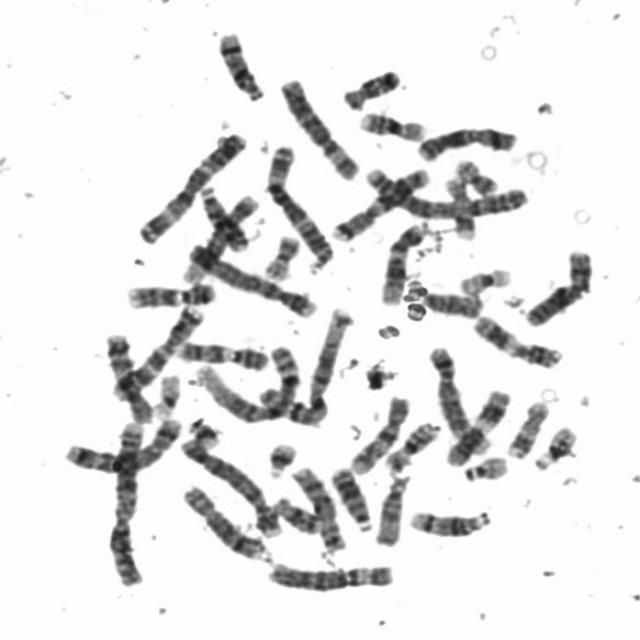A1: (254, 302, 356, 426), (189, 337, 304, 425)
A2: (359, 158, 535, 220), (101, 411, 149, 589)
A3: (130, 123, 250, 246), (258, 134, 337, 271)
B4: (172, 430, 284, 538), (179, 238, 319, 319)
B5: (57, 408, 185, 476), (422, 337, 494, 457)
C10: (342, 388, 413, 475), (96, 324, 154, 425)
C11: (439, 380, 514, 468), (464, 308, 566, 371)
C12: (175, 186, 264, 286), (373, 214, 429, 306)
C6: (272, 70, 362, 181), (259, 554, 399, 594)
C7: (105, 299, 206, 403), (325, 158, 432, 243)
C8: (173, 477, 270, 562), (284, 458, 350, 553)
C9: (169, 333, 272, 372), (118, 274, 220, 310)
D13: (191, 178, 250, 253), (323, 459, 375, 532)
D14: (208, 22, 268, 102), (401, 500, 494, 540)
D15: (368, 467, 413, 547), (413, 282, 486, 320)
E16: (378, 413, 443, 474), (351, 102, 428, 142)
E17: (500, 393, 552, 460), (437, 168, 480, 241)
E18: (335, 60, 404, 111), (264, 488, 324, 536)
F19: (451, 258, 515, 296), (146, 365, 183, 419)
F20: (256, 226, 303, 282), (448, 150, 502, 196)
G21: (259, 434, 300, 479), (181, 410, 224, 450)
G22: (524, 418, 580, 472), (456, 448, 510, 483)
X: (517, 242, 596, 328), (409, 118, 522, 164)
